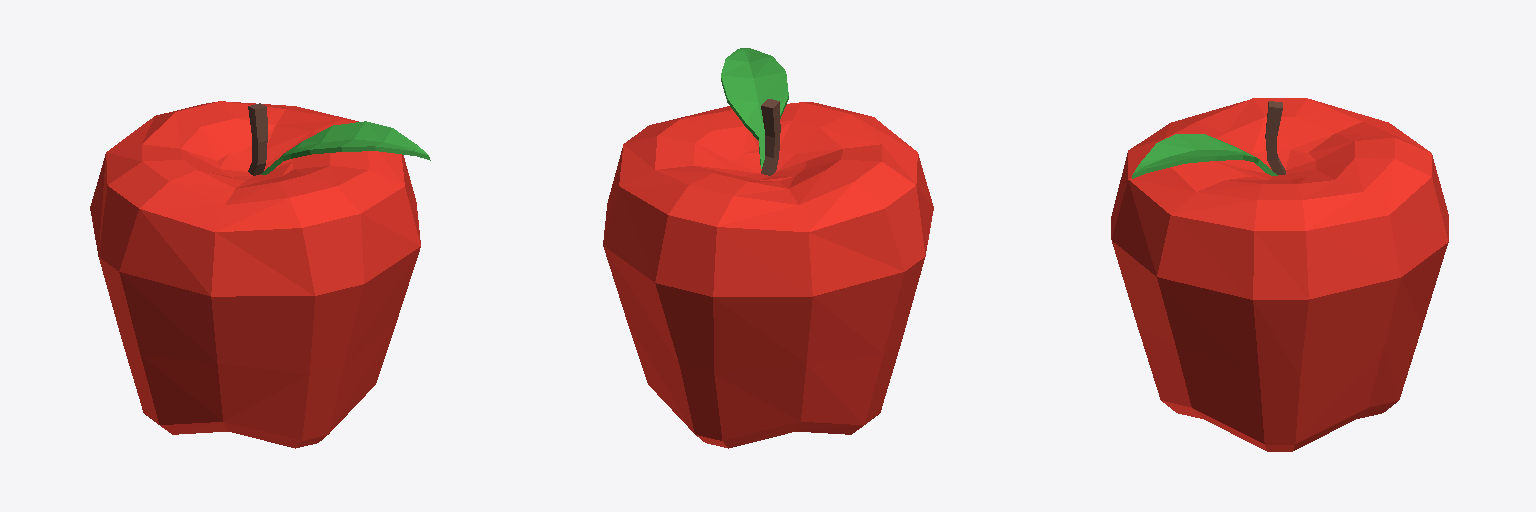
The model's file is SmoothApple.obj.
3 views of the same model, side by side, from view 1: azimuth 30°, elevation 25°; view 2: azimuth 150°, elevation 25°; view 3: azimuth 270°, elevation 25° (orthographic).
Visible parts, largest first — view 1: Apple_Cube.026_Cube; view 2: Apple_Cube.026_Cube; view 3: Apple_Cube.026_Cube.
Boxes of the visible parts, <box> form: Apple_Cube.026_Cube: <box>90,101,430,448</box>; Apple_Cube.026_Cube: <box>603,48,933,448</box>; Apple_Cube.026_Cube: <box>1111,98,1448,451</box>.
Size of the model in its own units: 9.96 by 9.84 by 9.88.